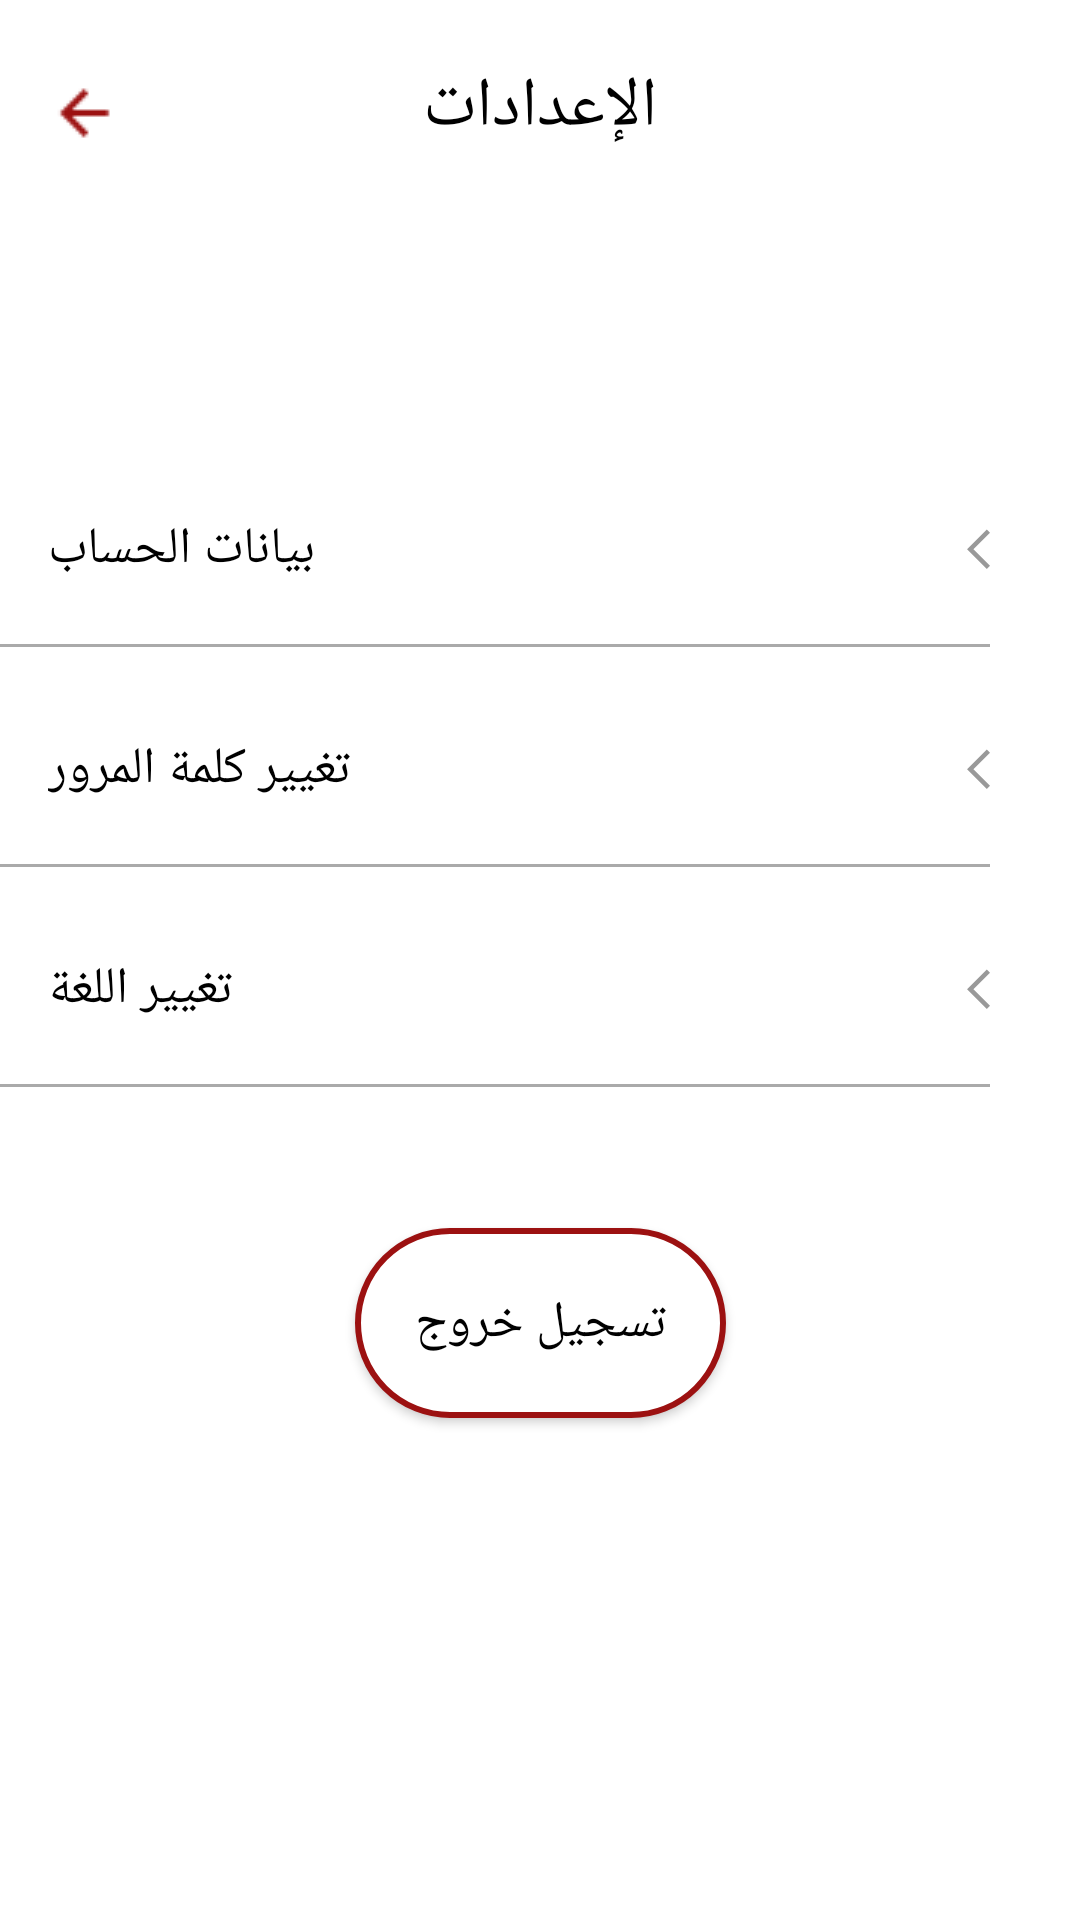

Screen size 1080px×1920px. Icon name, then its center in pixels as (x,y):
back oval: (85,113)
